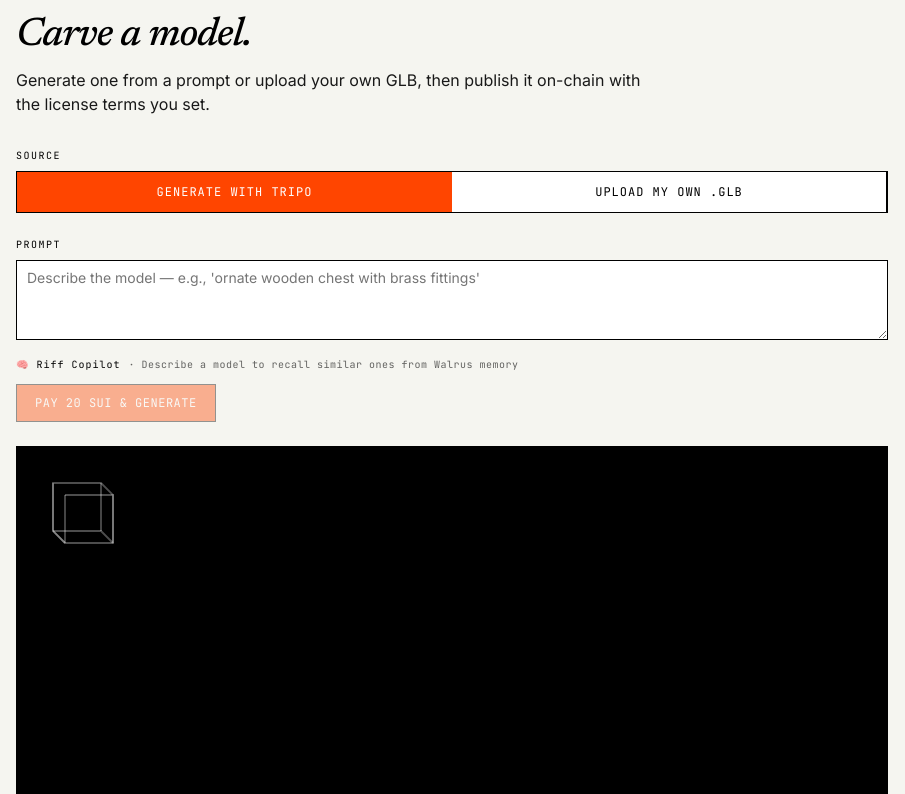
Scenario: CreateModelPage › switches to the GLB upload input
Click the radio button labelled "Upload my own .glb": {"x": 670, "y": 192} [452,172,887,212]
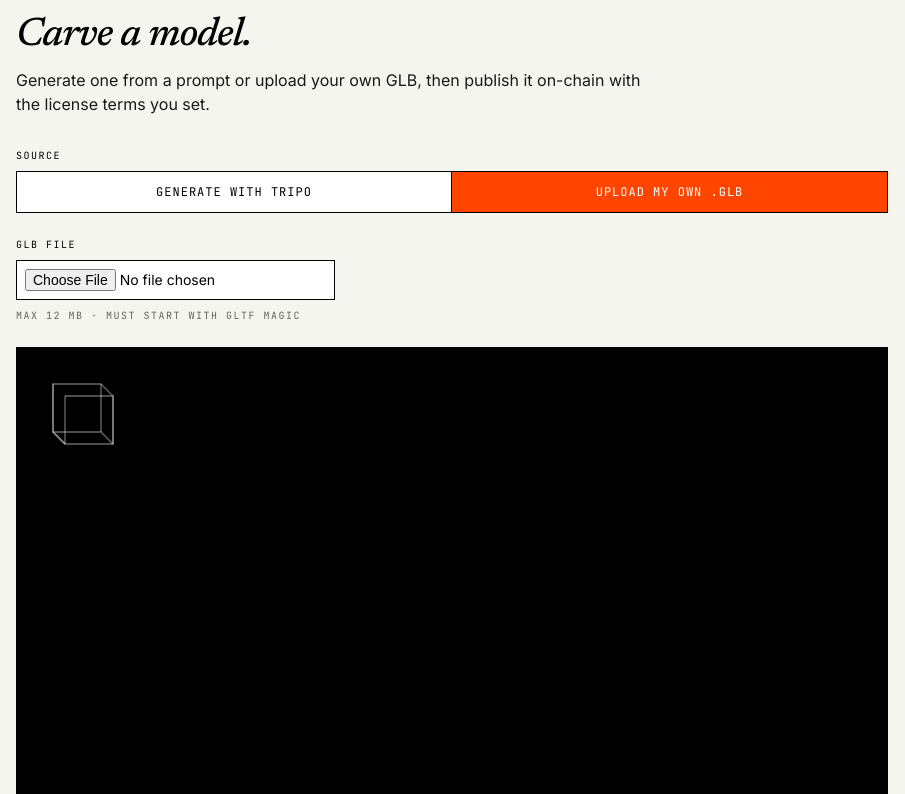
Expected: the file field with test id "glb-file-input" is shown, [16,260,335,300]
